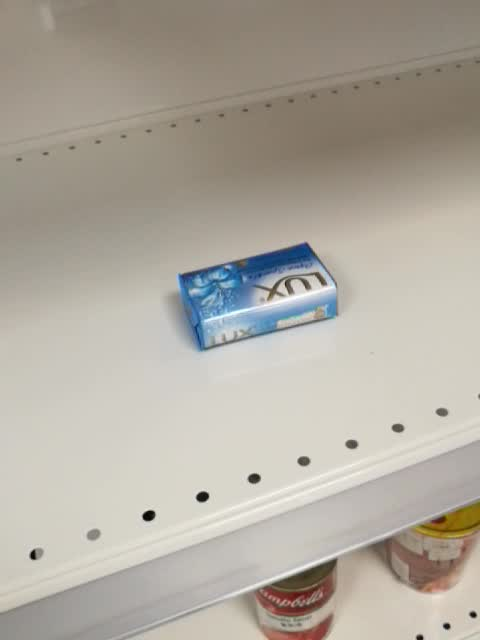soap: (176, 241, 339, 351)
